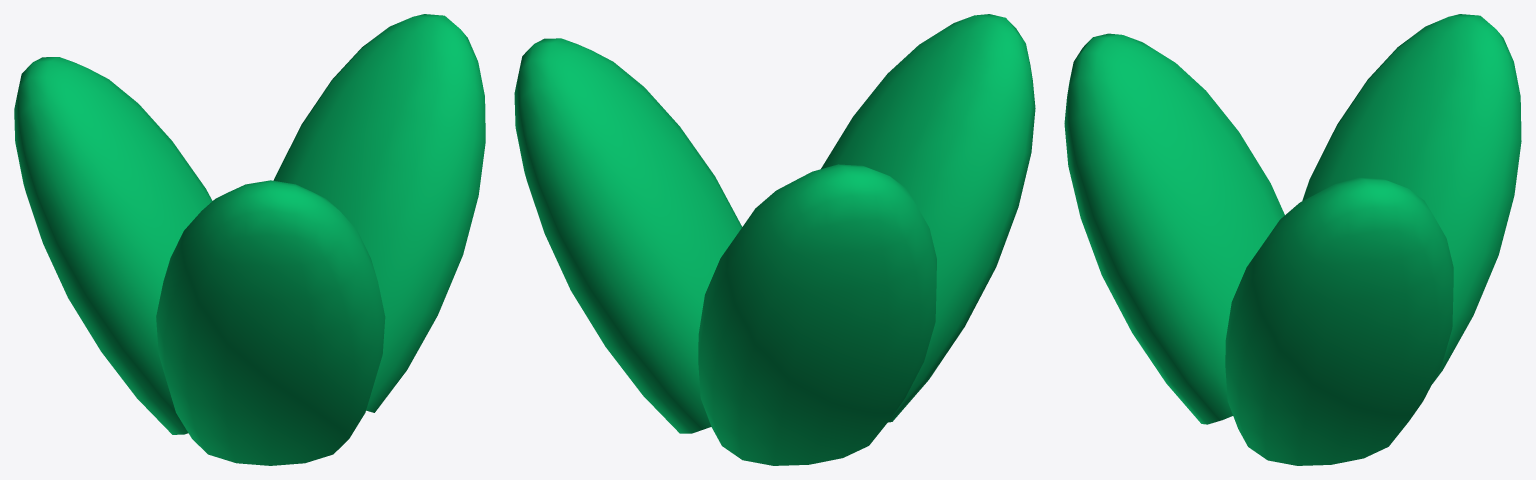
The model's file is Town_18_Grass_2.glb.
The picture shows the model from 3 angles, left to right: view 1: azimuth 30°, elevation 25°; view 2: azimuth 150°, elevation 25°; view 3: azimuth 270°, elevation 25°; orthographic projection. The views are drawn at different scales.
Visible parts, largest first — view 1: Town_18_Grass_2; view 2: Town_18_Grass_2; view 3: Town_18_Grass_2.
Boxes of the visible parts, left/top/right/bottom form: Town_18_Grass_2: left=14, top=14, right=485, bottom=465; Town_18_Grass_2: left=514, top=14, right=1035, bottom=465; Town_18_Grass_2: left=1064, top=14, right=1521, bottom=465.
Bounding box in the file's own units: 0.2493 × 0.1974 × 0.2414.
1 material, 1 textured.
